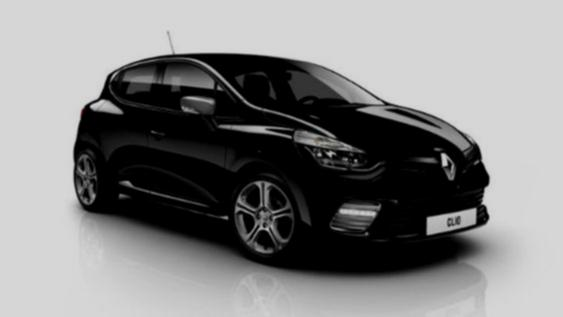Renault: (433, 145, 461, 185)
